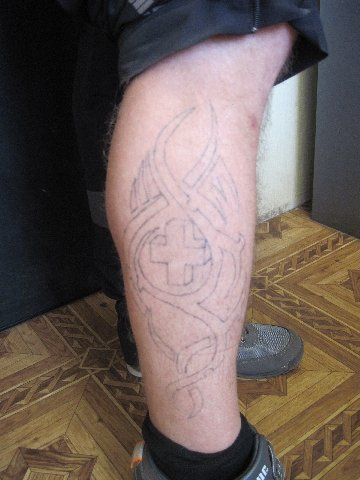tatu9_krest: (143, 214, 223, 294)
